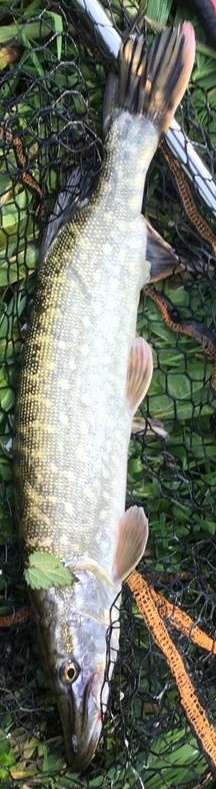Esox lucius: (20, 20, 196, 769)
